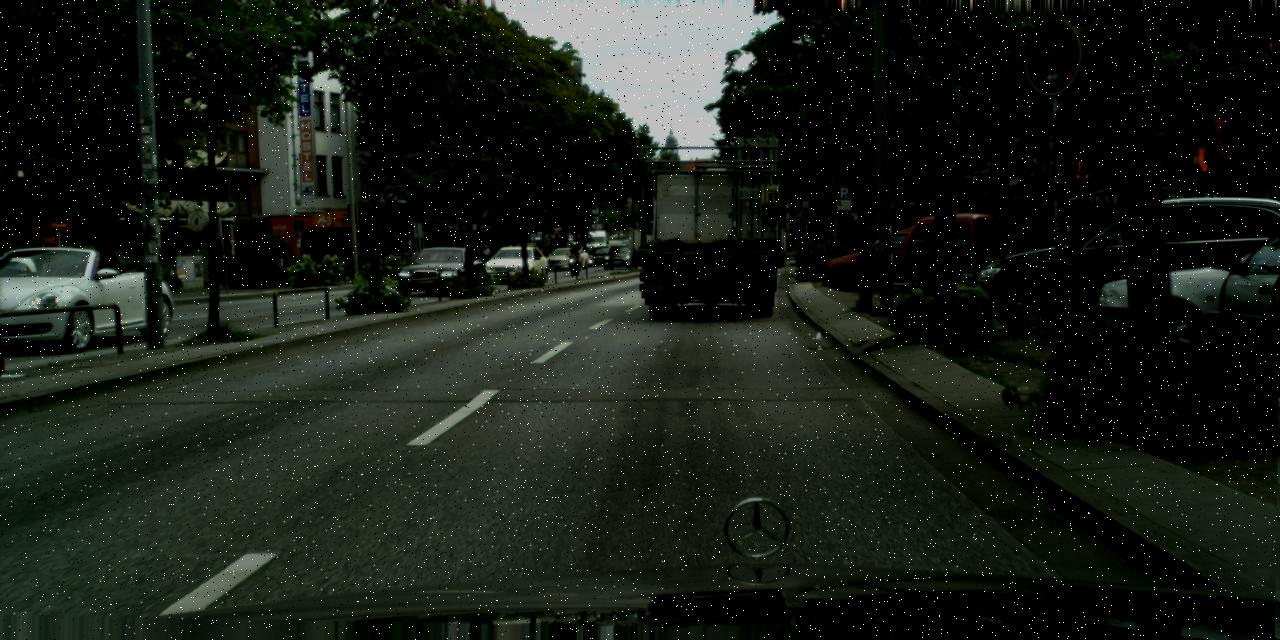ped: (480, 244, 491, 270), (569, 240, 579, 268)
